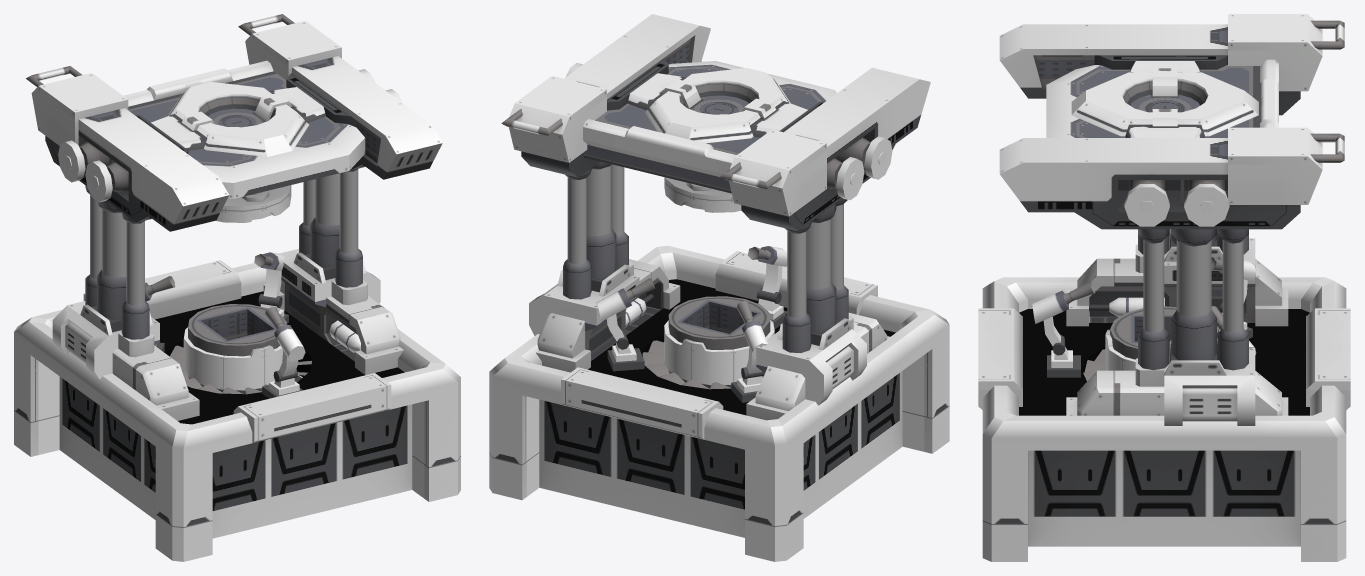
The model's file is assembler-2.glb.
3 views of the same model, side by side, from view 1: azimuth 30°, elevation 25°; view 2: azimuth 150°, elevation 25°; view 3: azimuth 270°, elevation 25° (orthographic). The views are drawn at different scales.
Parts seen in each view (by area): view 1: assembler-mk-2, assembler-mk-c, assembler-mk-b, assembler-mk-a, assembler-mk-c1, assembler-mk-f1, assembler-mk-f2, assembler-mk-d3-2, assembler-mk-e, assembler-mk-d1-1; view 2: assembler-mk-2, assembler-mk-c, assembler-mk-b, assembler-mk-a, assembler-mk-c1, assembler-mk-e, assembler-mk-f1, assembler-mk-d1-2, assembler-mk-f2, assembler-mk-d2-2, assembler-mk-d1, assembler-mk-d3-1 (+2 smaller); view 3: assembler-mk-2, assembler-mk-c, assembler-mk-b, assembler-mk-a, assembler-mk-f2, assembler-mk-f1, assembler-mk-d3-2, assembler-mk-d3, assembler-mk-d3-1.
Boxes of the visible parts, box(x1,y1,x2,y2) form: assembler-mk-2: box(14, 218, 460, 561); assembler-mk-c: box(26, 14, 442, 231); assembler-mk-b: box(90, 169, 358, 305); assembler-mk-a: box(183, 304, 286, 394); assembler-mk-c1: box(216, 185, 291, 222); assembler-mk-f1: box(85, 89, 402, 202); assembler-mk-f2: box(58, 69, 375, 182); assembler-mk-d3-2: box(265, 306, 305, 361); assembler-mk-e: box(170, 345, 311, 394); assembler-mk-d1-1: box(258, 268, 282, 307); assembler-mk-2: box(489, 228, 949, 561); assembler-mk-c: box(501, 14, 930, 233); assembler-mk-b: box(567, 164, 843, 317); assembler-mk-a: box(664, 296, 774, 388); assembler-mk-c1: box(664, 177, 741, 212); assembler-mk-e: box(642, 340, 763, 389); assembler-mk-f1: box(566, 63, 892, 179); assembler-mk-d1-2: box(596, 278, 655, 321); assembler-mk-f2: box(836, 157, 864, 200); assembler-mk-d2-2: box(737, 301, 768, 359); assembler-mk-d1: box(607, 342, 644, 371); assembler-mk-d3-1: box(756, 263, 782, 303); assembler-mk-2: box(978, 229, 1350, 561); assembler-mk-c: box(999, 14, 1344, 246); assembler-mk-b: box(1143, 240, 1243, 332); assembler-mk-a: box(1105, 306, 1220, 370); assembler-mk-f2: box(1184, 184, 1229, 226); assembler-mk-f1: box(1124, 184, 1169, 226); assembler-mk-d3-2: box(1032, 281, 1095, 323); assembler-mk-d3: box(1047, 347, 1080, 377); assembler-mk-d3-1: box(1043, 316, 1065, 355).
Size of the model in its own units: 4.17 by 4.85 by 4.09.
Materials: 1 (1 with a texture image).
